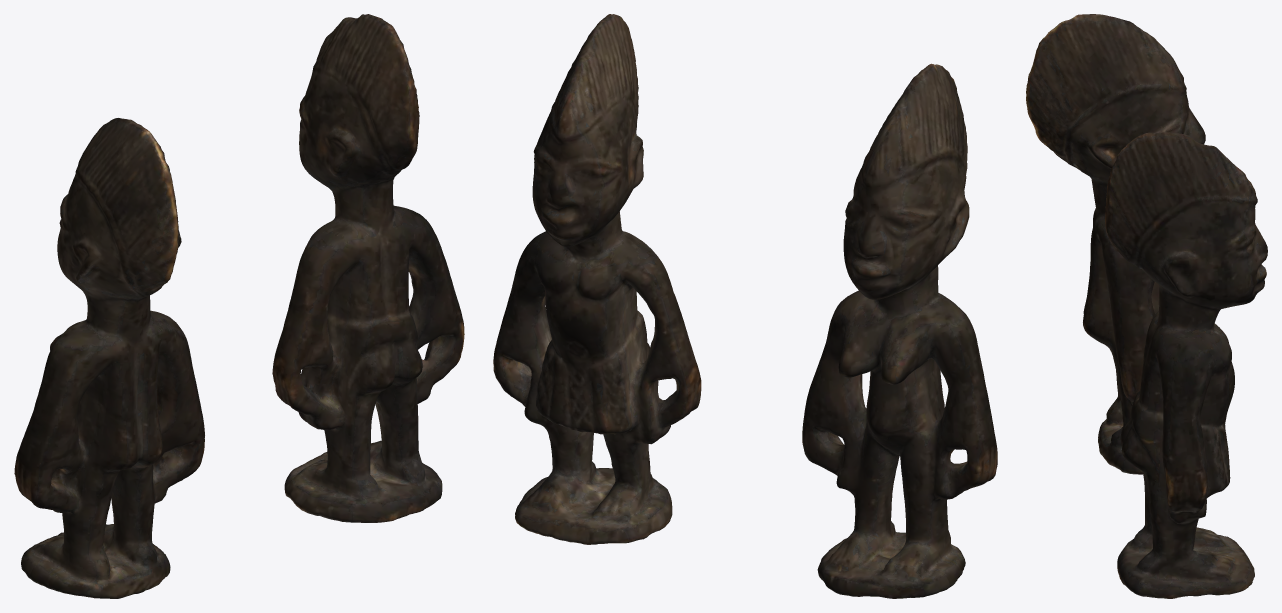
The model's file is preview.glb.
The picture shows the model from 3 angles, left to right: view 1: azimuth 30°, elevation 25°; view 2: azimuth 150°, elevation 25°; view 3: azimuth 270°, elevation 25°; orthographic projection. The views are drawn at different scales.
Parts seen in each view (by area): view 1: Object_2; view 2: Object_2; view 3: Object_2.
Part boxes in pixels (x1,y1,x2,y2): Object_2: (14, 14, 464, 598); Object_2: (493, 14, 997, 598); Object_2: (1026, 14, 1267, 598).
Size of the model in its own units: 276 by 276 by 136.
Materials: 1 (1 with a texture image).
